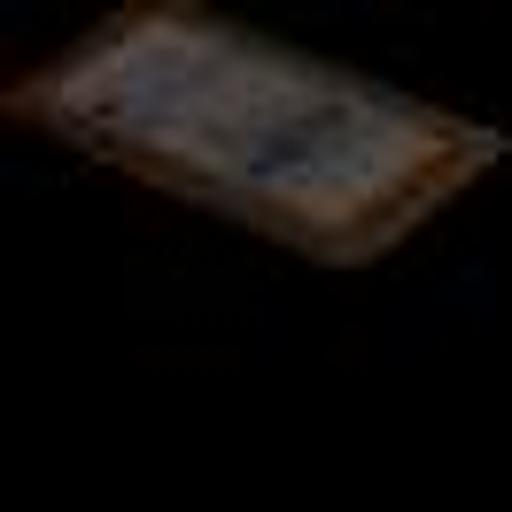Other: (13, 4, 501, 283)
